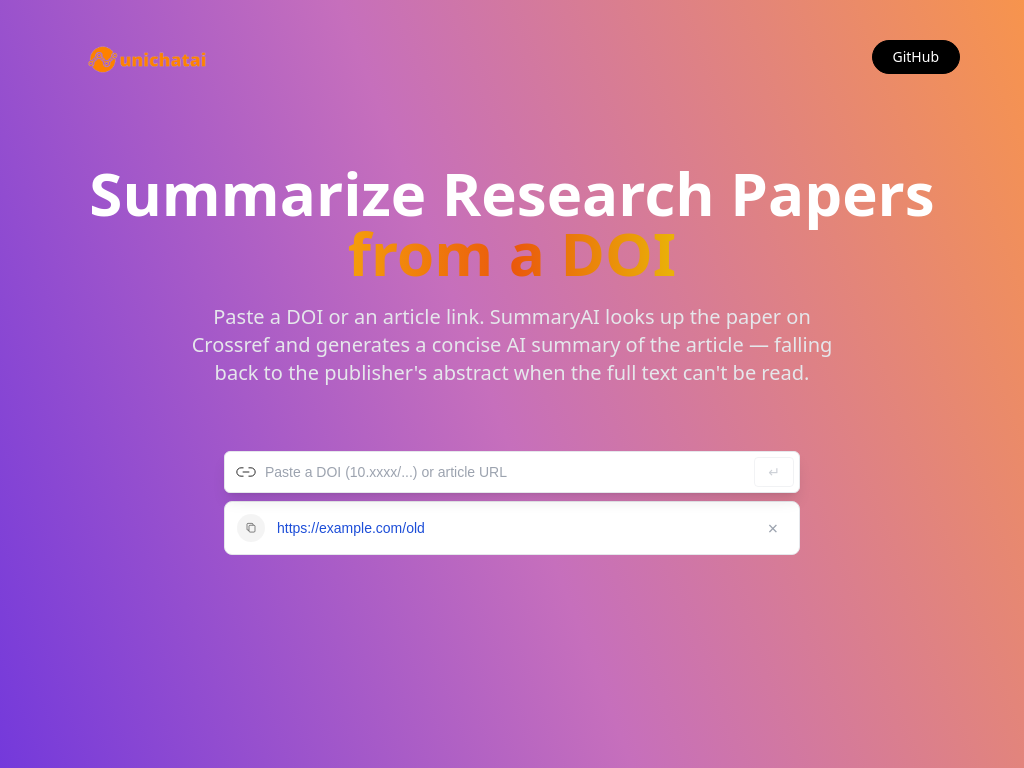
Test: <App /> summary flow › shows a history entry when it is selected
What coordinates should you click on to do the following:
click the button titled "https://example.com/old"
I would click on:
 (351, 528)
Its box is [277,518,747,538].
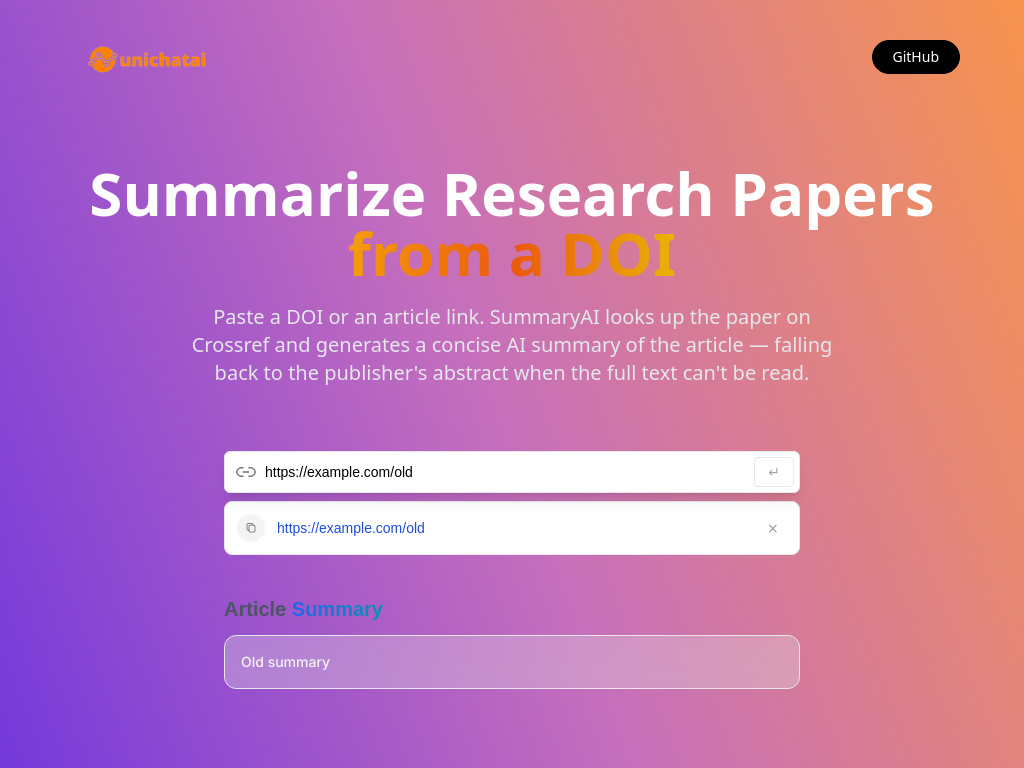
Expected: the text "Old summary" is shown, [241,653,330,670]
Expected: the field named "DOI or article URL" holds "https://example.com/old", [224,451,800,493]
